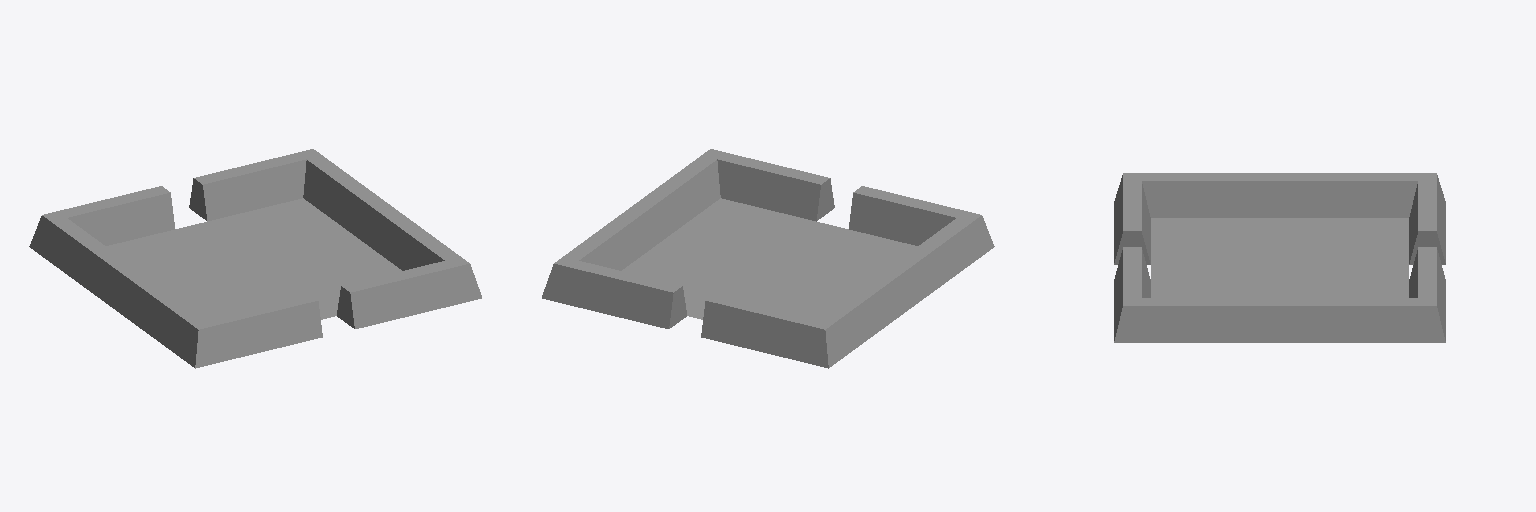
File: sala_004.obj
3 renders of one model, left to right at view 1: azimuth 30°, elevation 25°; view 2: azimuth 150°, elevation 25°; view 3: azimuth 270°, elevation 25°, orthographic.
Visible parts, largest first — view 1: Ground_Plane, Wall.000_Cube.011, Wall.007_Cube.017, Wall.002_Cube.014, Wall.004_Cube.015, Wall.006_Cube.016, Wall.005_Cube.002, Wall.003_Cube.010, Wall.001_Cube.012; view 2: Ground_Plane, Wall.002_Cube.014, Wall.005_Cube.002, Wall.000_Cube.011, Wall.006_Cube.016, Wall.004_Cube.015, Wall.007_Cube.017, Wall.001_Cube.012, Wall.003_Cube.010; view 3: Ground_Plane, Wall.003_Cube.010, Wall.001_Cube.012, Wall.004_Cube.015, Wall.006_Cube.016, Wall.005_Cube.002, Wall.007_Cube.017, Wall.000_Cube.011, Wall.002_Cube.014.
Boxes of the visible parts, box(x1,y1,x2,y2) form: Ground_Plane: box(106, 198, 401, 319); Wall.000_Cube.011: box(337, 261, 481, 328); Wall.007_Cube.017: box(195, 294, 322, 368); Wall.002_Cube.014: box(189, 149, 312, 221); Wall.004_Cube.015: box(29, 215, 135, 306); Wall.006_Cube.016: box(112, 269, 204, 367); Wall.005_Cube.002: box(44, 186, 174, 245); Wall.003_Cube.010: box(303, 149, 390, 244); Wall.001_Cube.012: box(368, 206, 468, 270); Ground_Plane: box(622, 198, 917, 319); Wall.002_Cube.014: box(542, 261, 686, 328); Wall.005_Cube.002: box(701, 294, 828, 368); Wall.000_Cube.011: box(711, 149, 834, 221); Wall.006_Cube.016: box(888, 215, 994, 306); Wall.004_Cube.015: box(819, 269, 911, 367); Wall.007_Cube.017: box(849, 186, 979, 245); Wall.001_Cube.012: box(633, 149, 720, 244); Wall.003_Cube.010: box(555, 206, 655, 270); Ground_Plane: box(1151, 218, 1408, 297); Wall.003_Cube.010: box(1280, 298, 1445, 342); Wall.001_Cube.012: box(1114, 298, 1279, 342); Wall.004_Cube.015: box(1280, 173, 1435, 217); Wall.006_Cube.016: box(1124, 173, 1279, 217); Wall.005_Cube.002: box(1409, 173, 1445, 264); Wall.007_Cube.017: box(1114, 173, 1150, 264); Wall.000_Cube.011: box(1114, 247, 1150, 340); Wall.002_Cube.014: box(1409, 247, 1445, 340).
Bounding box in the file's own units: 18 × 2 × 18.